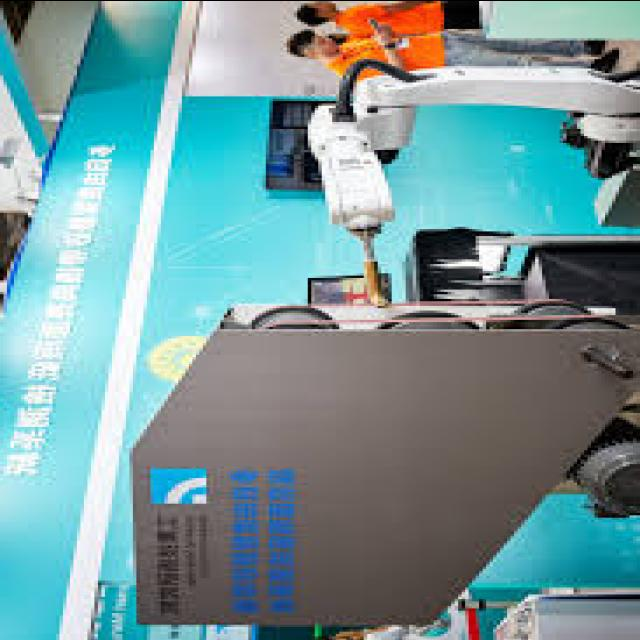Robotic-arm: (296, 40, 640, 244)
